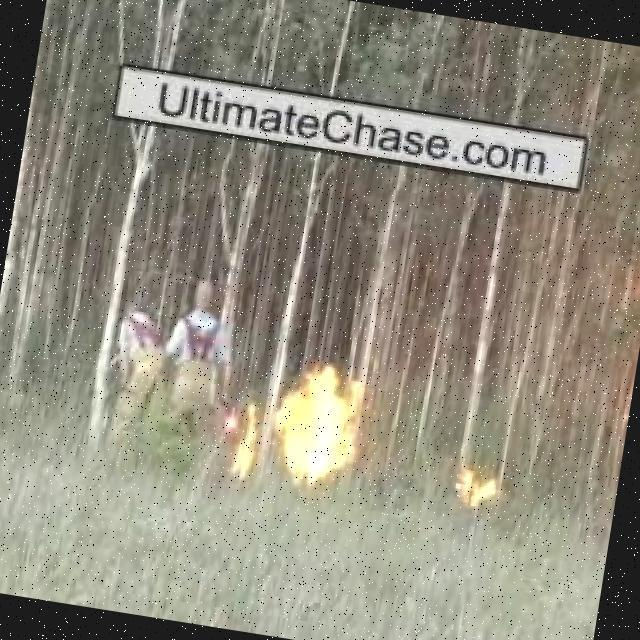Fire: (264, 352, 373, 502), (219, 407, 266, 480), (449, 468, 503, 518)
